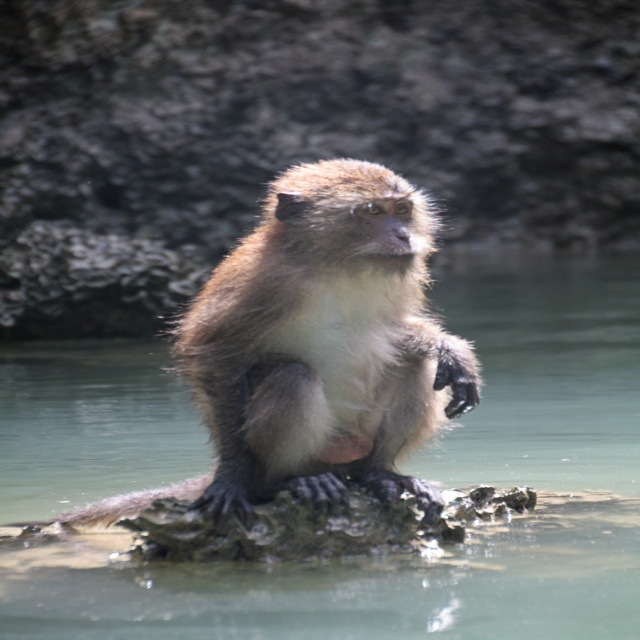Monkey: (149, 157, 485, 534)
